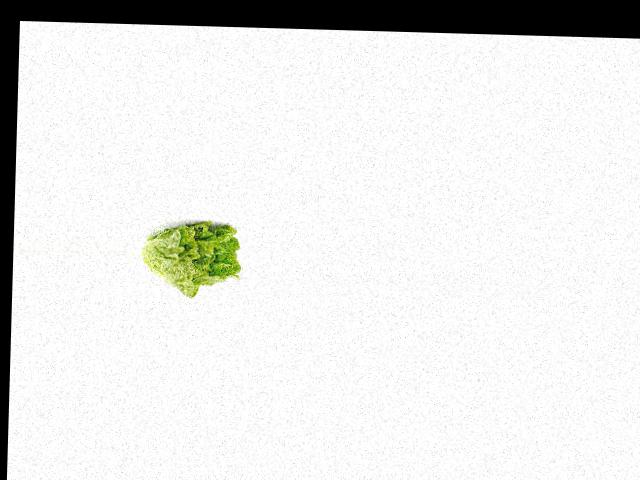lettuce: (140, 214, 241, 297)
